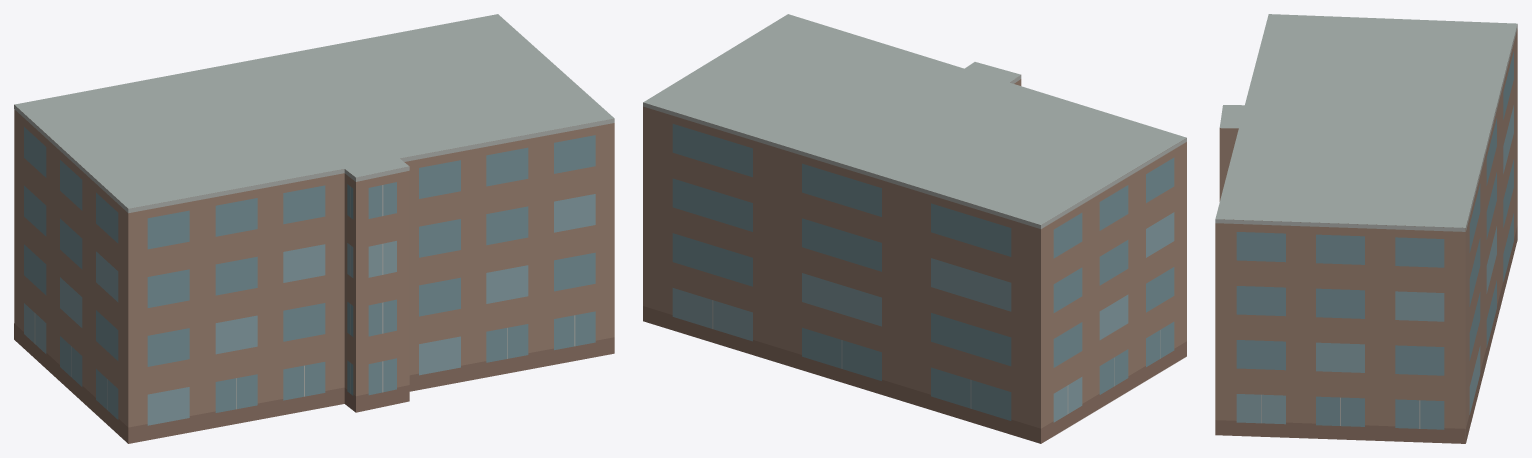
Rendered from survey-upis-32500583.glb.
3 views of the same model, side by side, from view 1: azimuth 30°, elevation 25°; view 2: azimuth 150°, elevation 25°; view 3: azimuth 270°, elevation 25° (orthographic). The views are drawn at different scales.
Visible parts, largest first — view 1: survey-upis-32500583.tmp; view 2: survey-upis-32500583.tmp; view 3: survey-upis-32500583.tmp.
Boxes of the visible parts, bbox=[...] form: survey-upis-32500583.tmp: bbox=[14, 14, 614, 443]; survey-upis-32500583.tmp: bbox=[643, 14, 1186, 443]; survey-upis-32500583.tmp: bbox=[1215, 14, 1517, 443].
Bounding box in the file's own units: 27.65 × 13.02 × 16.52.
